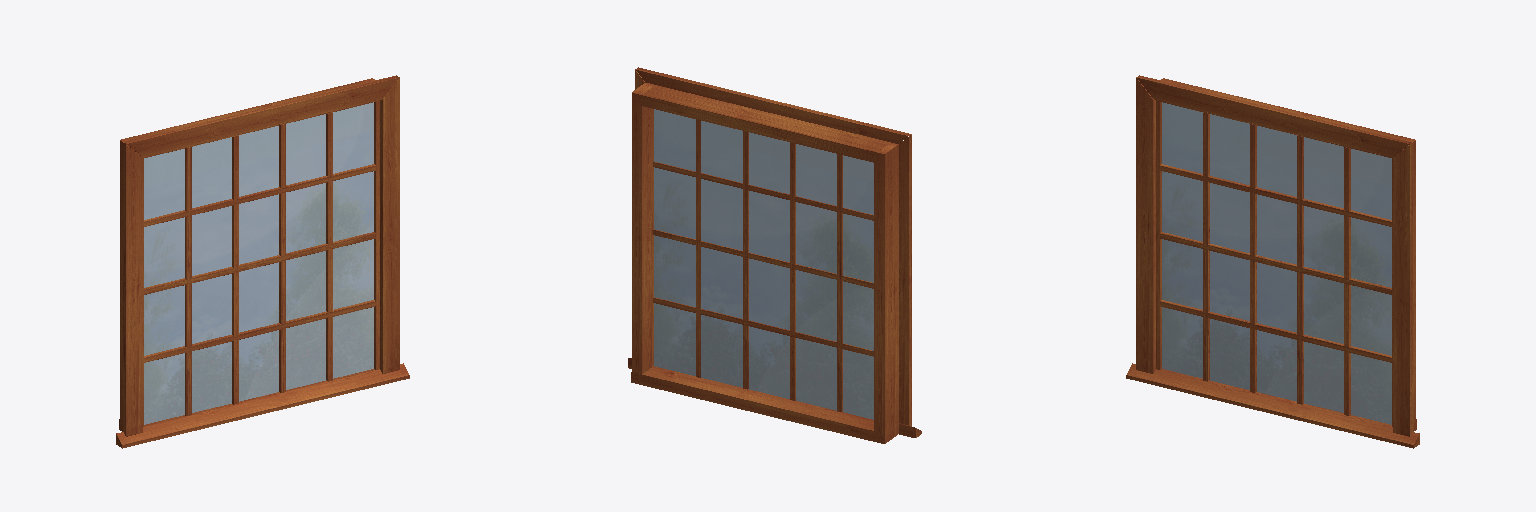
The picture shows the model from 3 angles: view 1: azimuth 30°, elevation 25°; view 2: azimuth 150°, elevation 25°; view 3: azimuth 330°, elevation 25°; orthographic projection.
Visible parts, largest first — view 1: glass001, trim_left, trim_right, trim_top, sill, muttin_vertical002, muttin_vertical004, muttin_vertical001, muttin_vertical003, box_right, muttin_horizontal002, muttin_horizontal003 (+3 smaller); view 2: glass001, box_left, box_right, box_top, sill, trim_left, trim_top, muttin_vertical001, muttin_vertical002, muttin_vertical003, muttin_vertical004, muttin_horizontal004 (+2 smaller); view 3: glass001, trim_right, trim_left, trim_top, sill, muttin_vertical003, muttin_vertical001, muttin_vertical002, muttin_vertical004, box_left, muttin_horizontal002, muttin_horizontal003 (+3 smaller).
Boxes of the visible parts, x1=… form: glass001: x1=144, y1=102, x2=373, y2=424; trim_left: x1=123, y1=143, x2=142, y2=436; trim_right: x1=380, y1=77, x2=399, y2=373; trim_top: x1=124, y1=75, x2=398, y2=157; sill: x1=116, y1=363, x2=409, y2=448; muttin_vertical002: x1=232, y1=135, x2=238, y2=404; muttin_vertical004: x1=326, y1=112, x2=332, y2=381; muttin_vertical001: x1=185, y1=147, x2=191, y2=415; muttin_vertical003: x1=279, y1=124, x2=285, y2=392; box_right: x1=363, y1=78, x2=379, y2=369; muttin_horizontal002: x1=144, y1=164, x2=375, y2=226; muttin_horizontal003: x1=144, y1=232, x2=375, y2=294; glass001: x1=654, y1=109, x2=873, y2=419; box_left: x1=874, y1=142, x2=898, y2=443; box_right: x1=632, y1=83, x2=654, y2=384; box_top: x1=638, y1=85, x2=890, y2=163; sill: x1=628, y1=358, x2=921, y2=443; trim_left: x1=899, y1=134, x2=911, y2=426; trim_top: x1=635, y1=67, x2=910, y2=143; muttin_vertical001: x1=837, y1=154, x2=842, y2=412; muttin_vertical002: x1=790, y1=142, x2=795, y2=400; muttin_vertical003: x1=743, y1=131, x2=748, y2=389; muttin_vertical004: x1=696, y1=119, x2=700, y2=377; muttin_horizontal004: x1=653, y1=297, x2=873, y2=356; glass001: x1=1162, y1=102, x2=1391, y2=424; trim_right: x1=1393, y1=143, x2=1412, y2=436; trim_left: x1=1136, y1=77, x2=1155, y2=373; trim_top: x1=1137, y1=75, x2=1411, y2=157; sill: x1=1126, y1=363, x2=1419, y2=448; muttin_vertical003: x1=1297, y1=135, x2=1303, y2=404; muttin_vertical001: x1=1203, y1=112, x2=1209, y2=381; muttin_vertical002: x1=1250, y1=124, x2=1256, y2=392; muttin_vertical004: x1=1344, y1=147, x2=1350, y2=415; box_left: x1=1156, y1=78, x2=1172, y2=369; muttin_horizontal002: x1=1160, y1=164, x2=1391, y2=226; muttin_horizontal003: x1=1160, y1=232, x2=1391, y2=294.
Bounding box in the file's own units: 42 × 41.97 × 5.
Materials: 6 (6 with a texture image).